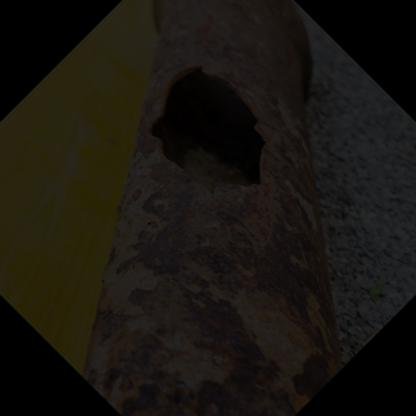burst: (153, 64, 263, 191)
